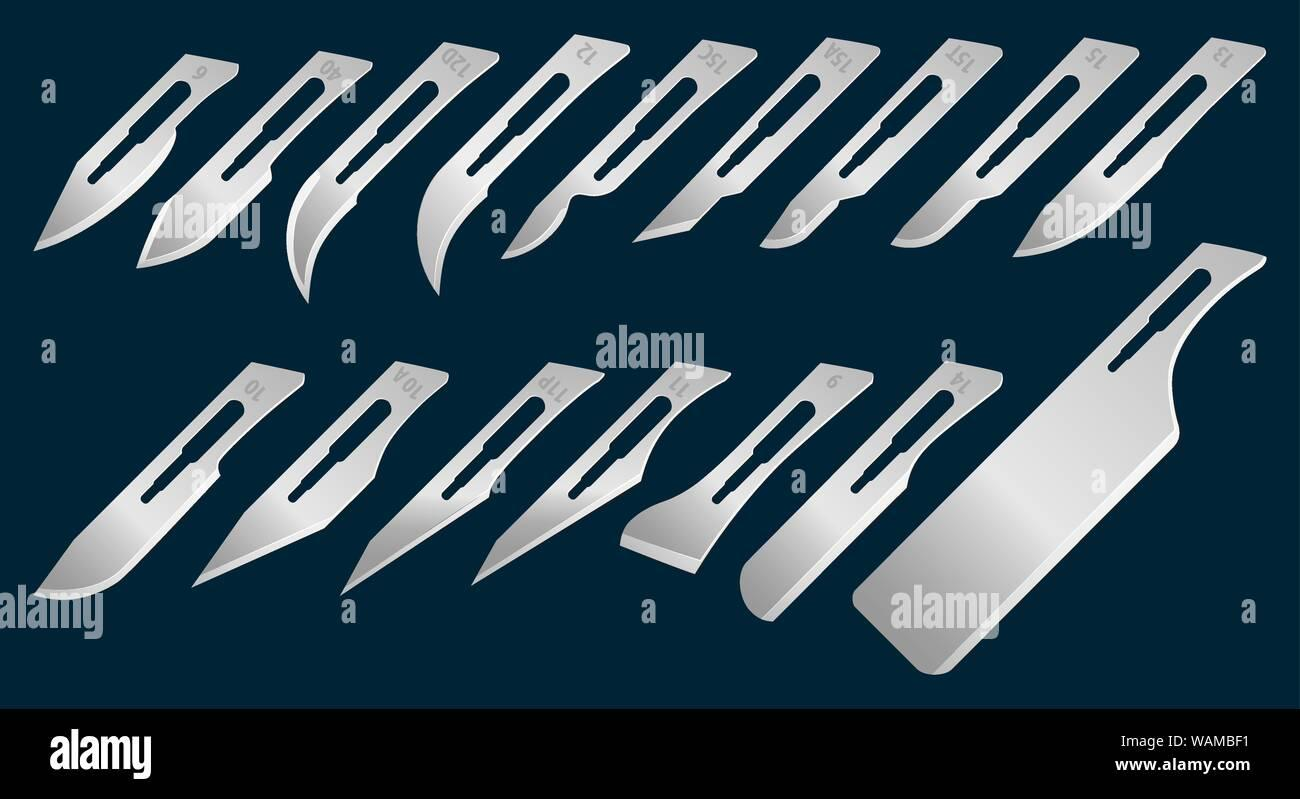Surgical blade: (730, 354, 999, 643), (385, 18, 645, 304), (26, 364, 315, 613), (331, 356, 618, 600), (865, 21, 1135, 279), (256, 46, 529, 295), (486, 19, 749, 276), (173, 354, 454, 589), (625, 15, 881, 269), (457, 355, 728, 594), (1005, 24, 1268, 269), (129, 23, 385, 265), (749, 38, 1009, 256), (21, 45, 236, 259)
